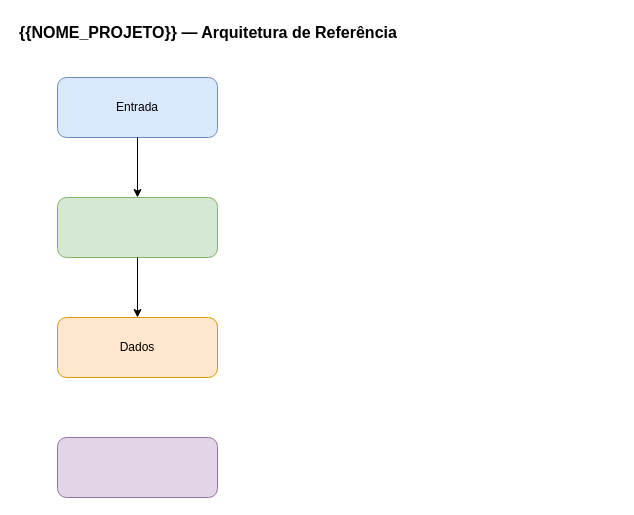
Image size: 634x515. Some labels were removed from this diagram. Each missing label, with the centre of its shape:
Aplicação: (137,227)
Observabilidade: (137,467)
